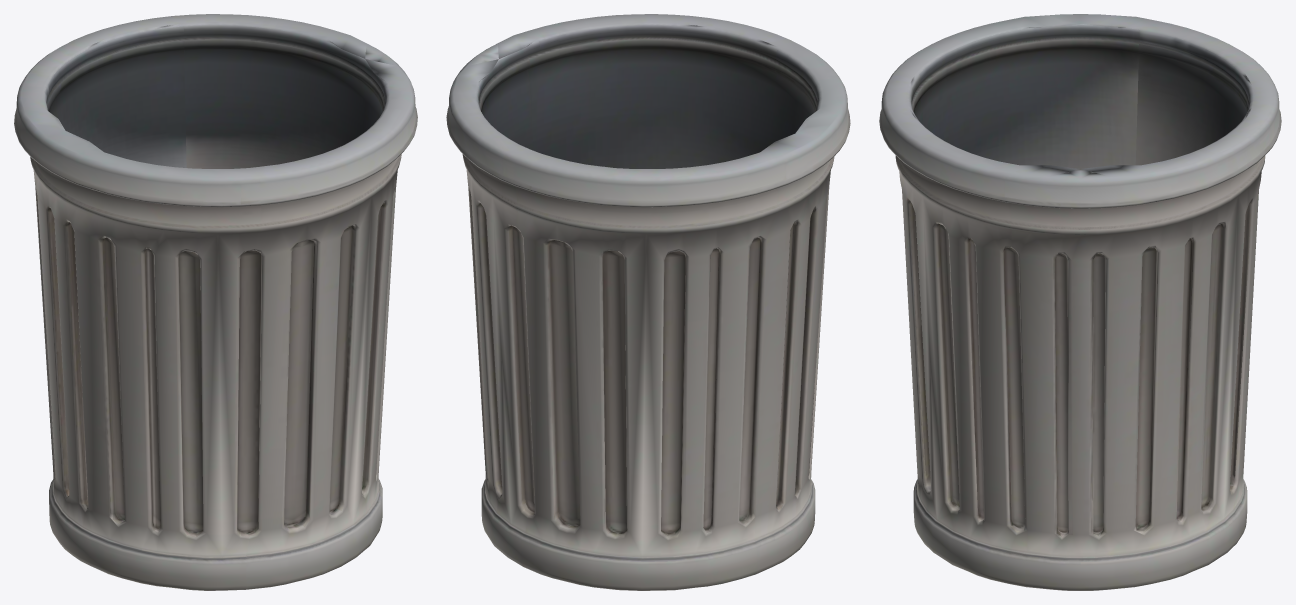
File: garbage_can_6b3d052b_v4.glb
3 renders of one model, left to right at view 1: azimuth 30°, elevation 25°; view 2: azimuth 150°, elevation 25°; view 3: azimuth 270°, elevation 25°, orthographic.
Visible parts, largest first — view 1: material; view 2: material; view 3: material.
Part boxes in pixels (box(x1,y1,x2,y2)): material: box(14, 14, 417, 590); material: box(446, 14, 850, 590); material: box(879, 14, 1281, 590).
Bounding box in the file's own units: 1.64 × 1.9 × 1.63.
1 material, 1 textured.
